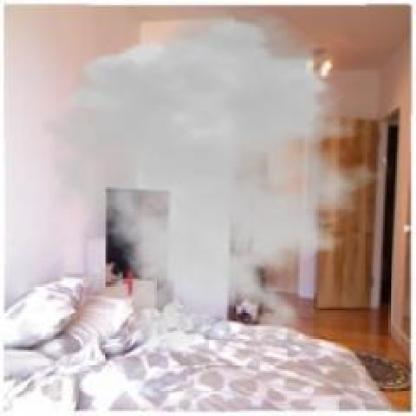Smoke: (34, 7, 399, 355)
